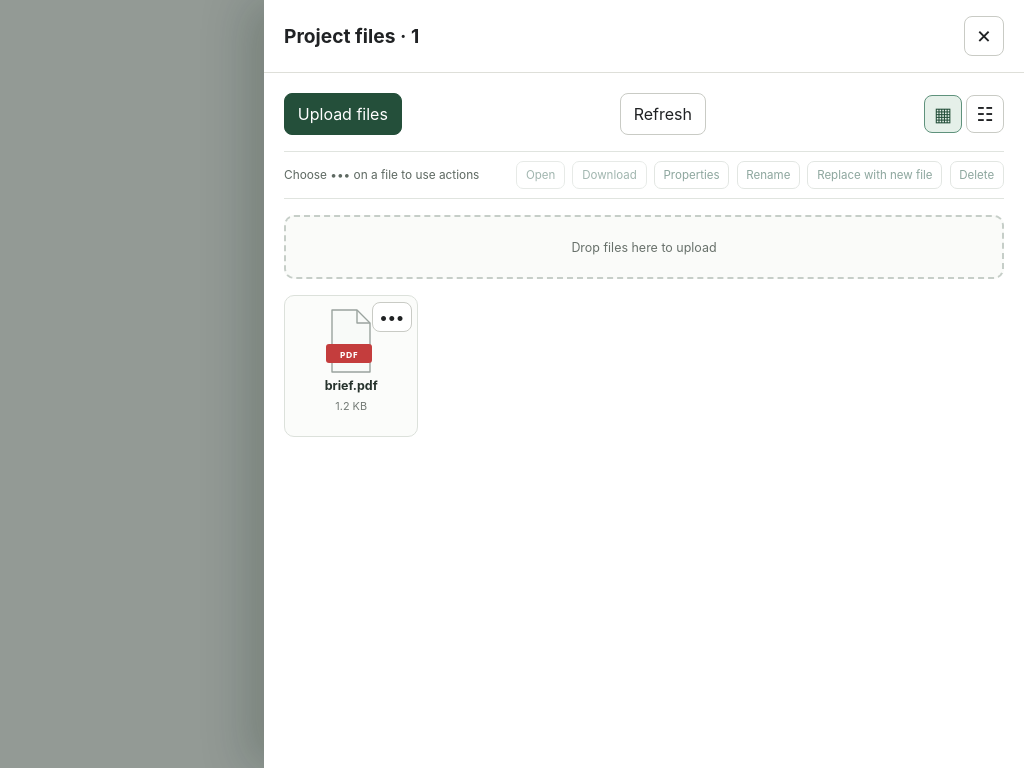
Test case: ProjectFilesPanel › switches every Project panel view through a resilient shared cookie
This screenshot has width=1024, height=768.
Click the button named "Table view". click: (985, 114)
box: x1=966 y1=95 x2=1004 y2=133
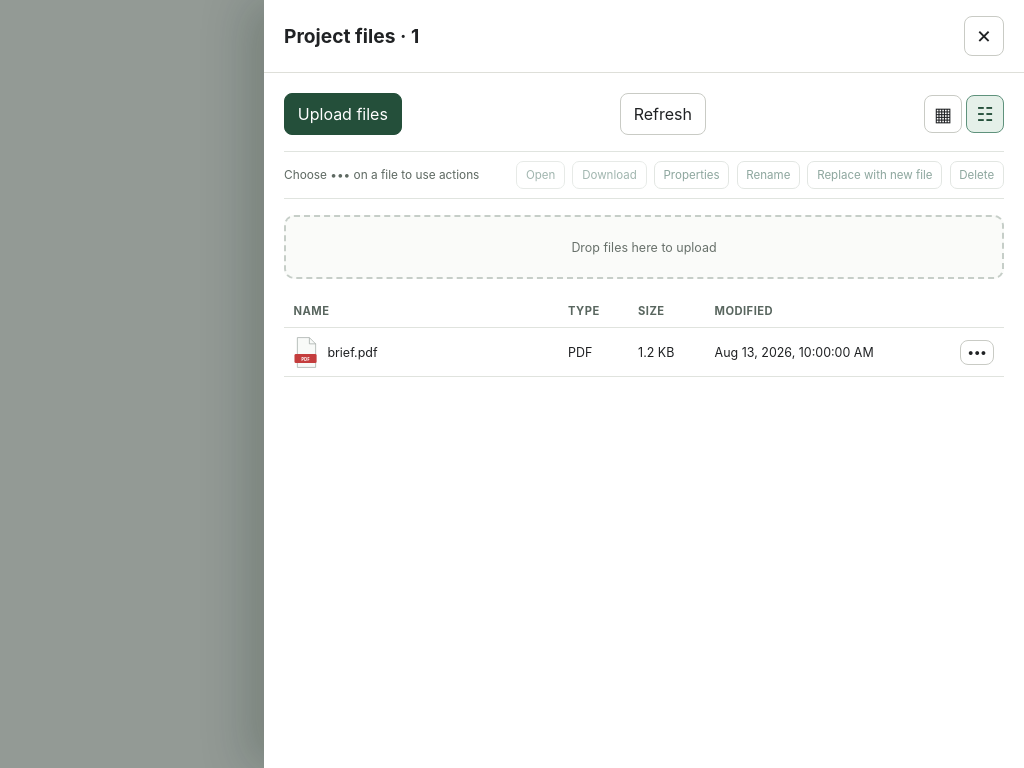
Expected: the table is shown, x1=284 y1=295 x2=1004 y2=377
